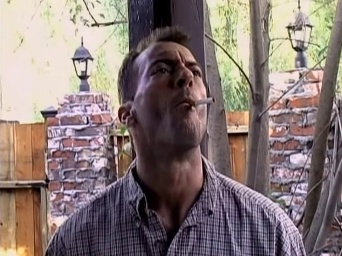smoke: (189, 97, 215, 108)
